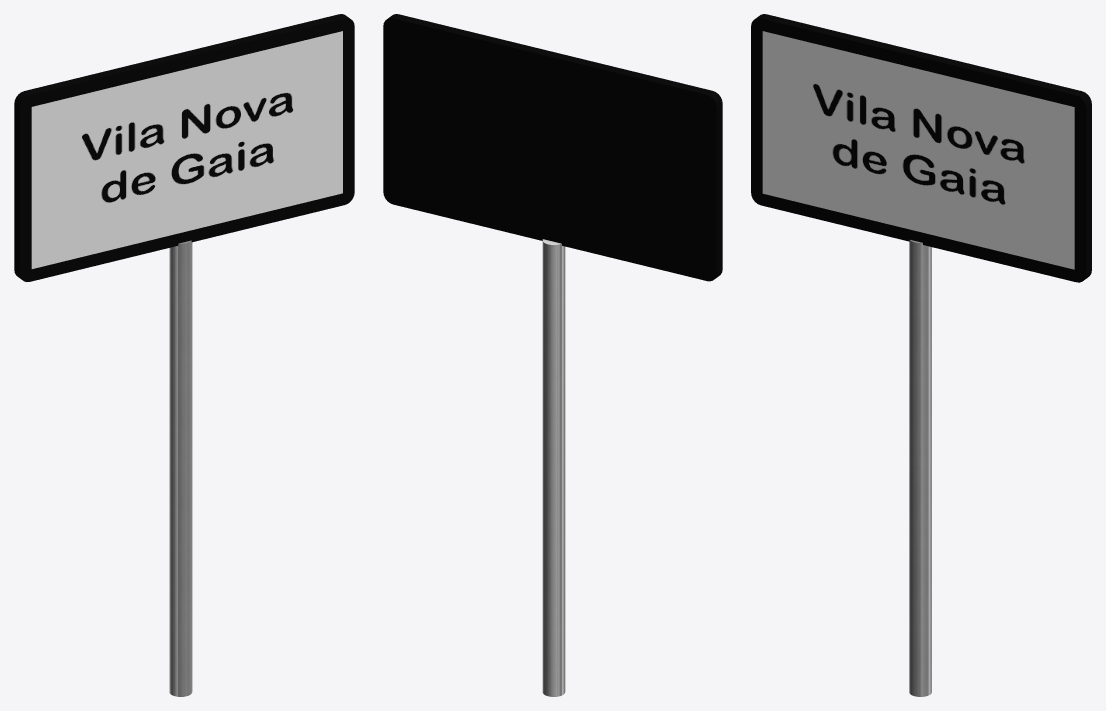
Rendered from Vila Nova de Gaia.gltf.
The picture shows the model from 3 angles, left to right: view 1: azimuth 30°, elevation 25°; view 2: azimuth 150°, elevation 25°; view 3: azimuth 330°, elevation 25°; orthographic projection.
Parts seen in each view (by area): view 1: root; view 2: root; view 3: root.
Boxes of the visible parts, left/top/right/bottom form: root: left=14, top=14, right=354, bottom=696; root: left=383, top=14, right=722, bottom=696; root: left=751, top=14, right=1091, bottom=696.
Size of the model in its own units: 0.4318 by 0.7865 by 0.0254.
Materials: 4 (2 with a texture image).
